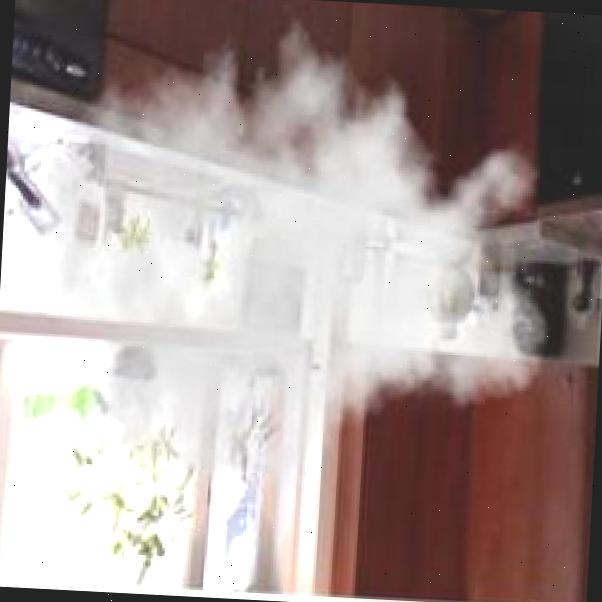smoke: (15, 0, 568, 543)
